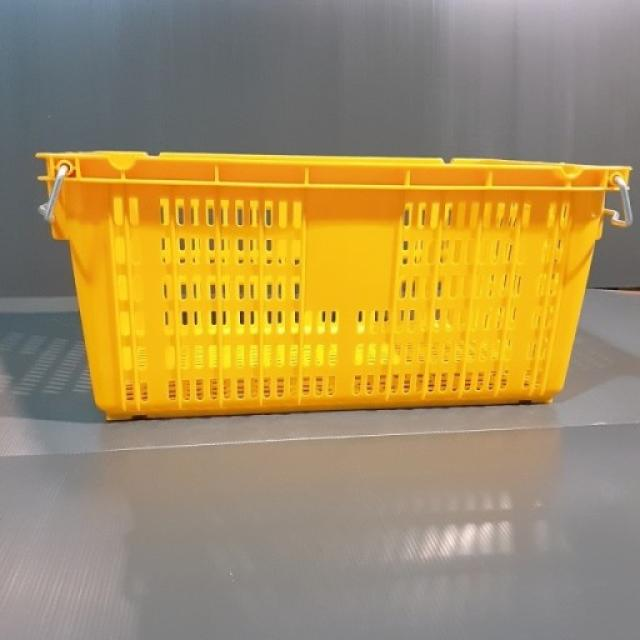basket: (38, 154, 631, 426)
